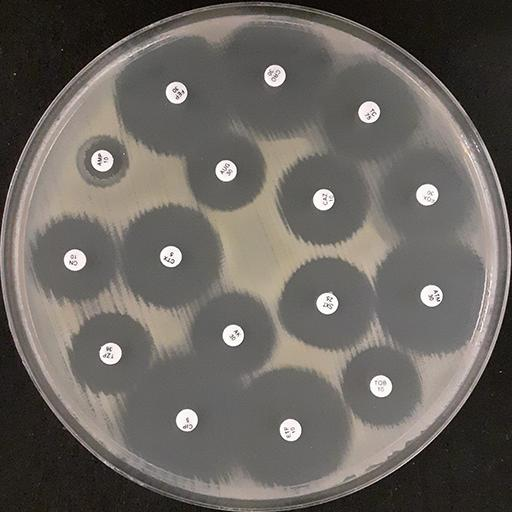disc: (278, 417, 303, 441), (263, 64, 287, 88), (357, 100, 381, 124), (419, 284, 443, 308), (99, 341, 123, 365), (369, 374, 393, 398), (62, 248, 87, 271), (165, 81, 188, 105), (415, 182, 438, 206), (315, 291, 338, 315), (221, 323, 244, 347), (175, 408, 199, 431), (91, 149, 114, 172), (214, 158, 237, 181), (312, 187, 335, 210), (159, 245, 182, 268)
